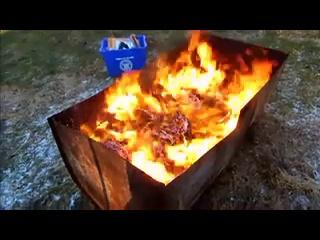fire: (97, 31, 270, 186)
